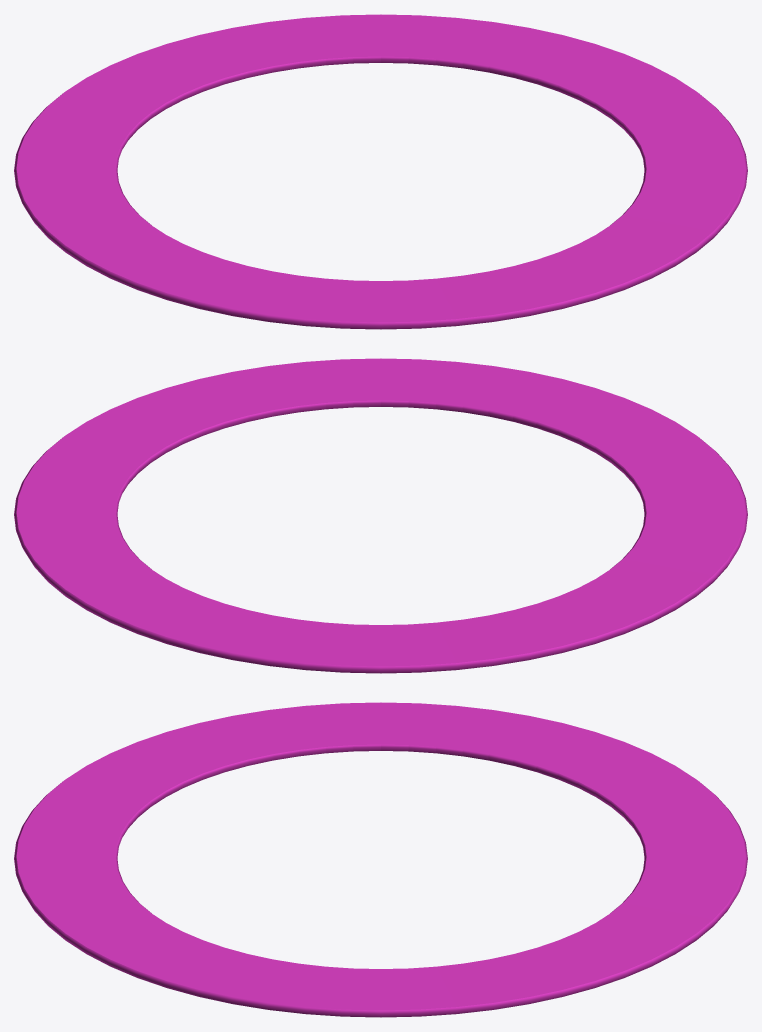
The model's file is Code_Cylinder_04.fbx.
3 renders of one model, top to bottom at view 1: azimuth 30°, elevation 25°; view 2: azimuth 150°, elevation 25°; view 3: azimuth 270°, elevation 25°, orthographic.
Parts seen in each view (by area): view 1: Code_Cylinder_04; view 2: Code_Cylinder_04; view 3: Code_Cylinder_04.
Boxes of the visible parts, x1,y1,x2,y2 form: Code_Cylinder_04: (14, 14, 747, 329); Code_Cylinder_04: (14, 358, 747, 673); Code_Cylinder_04: (14, 702, 747, 1017).
Bounding box in the file's own units: 96.26 × 1.02 × 96.26.
